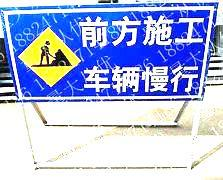sign: (1, 9, 209, 100)
